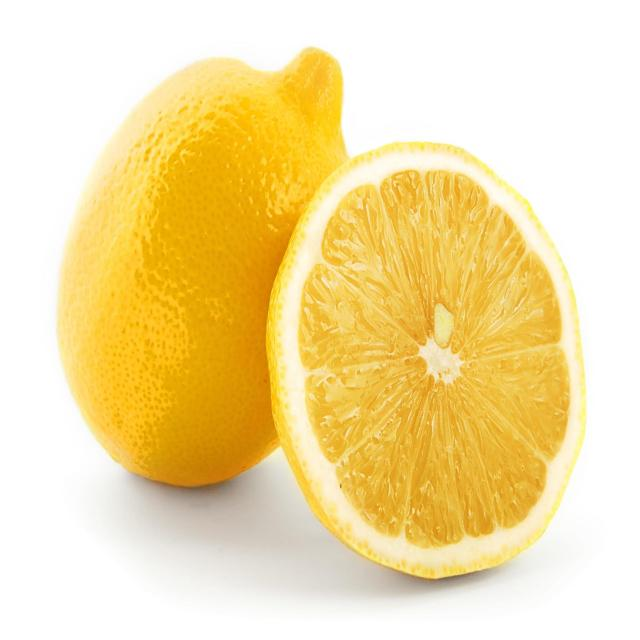lemon: (262, 135, 595, 588), (46, 41, 364, 501)
